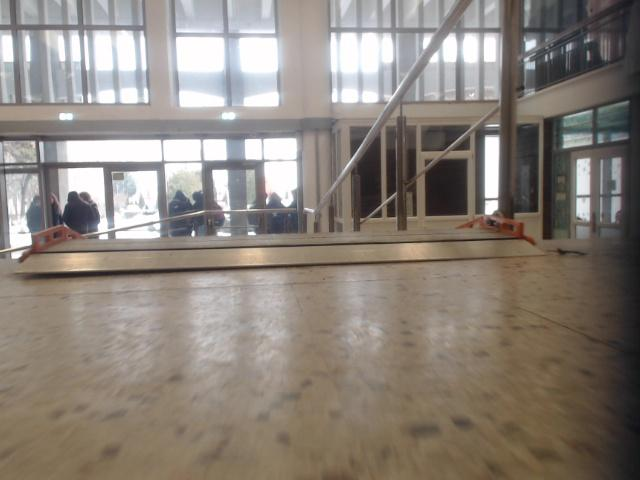rampDown: (18, 219, 543, 275)
ramps-railing: (352, 0, 524, 230), (302, 0, 472, 215), (110, 209, 295, 234)
